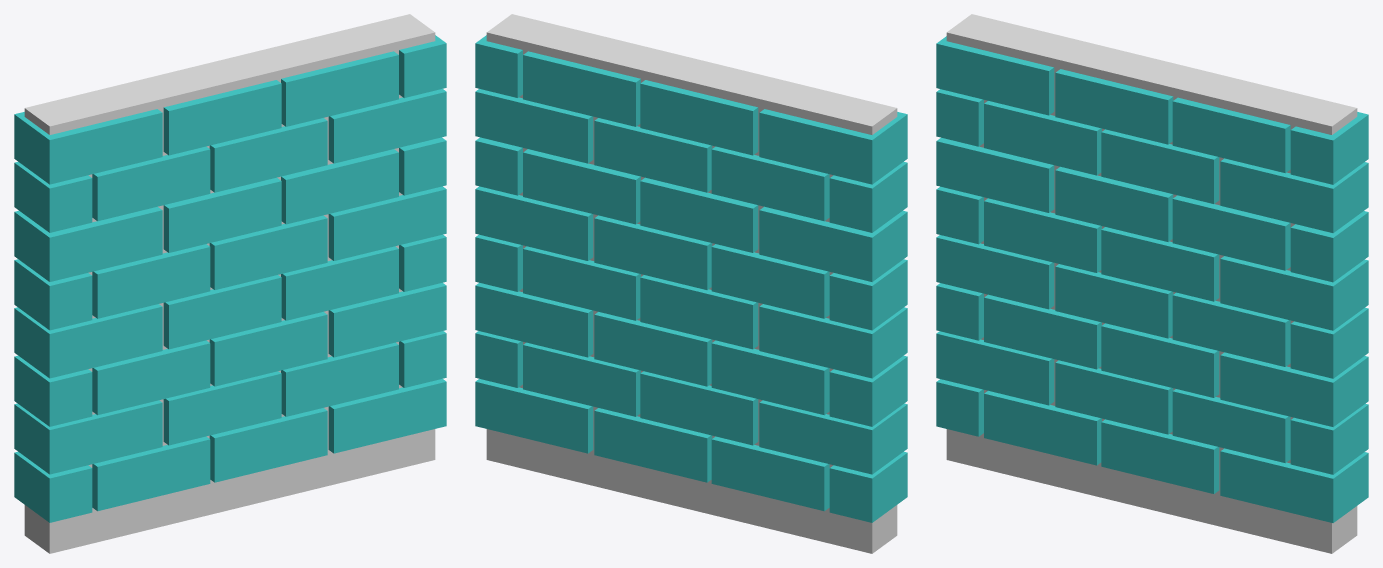
Rendered from duvar 2.2.2.fbx.
3 renders of one model, left to right at view 1: azimuth 30°, elevation 25°; view 2: azimuth 150°, elevation 25°; view 3: azimuth 330°, elevation 25°, orthographic.
Visible parts, largest first — view 1: tek_duvar3; view 2: tek_duvar3; view 3: tek_duvar3.
Part boxes in pixels (x1,y1,x2,y2): tek_duvar3: (14, 14, 446, 553); tek_duvar3: (475, 14, 907, 553); tek_duvar3: (936, 14, 1368, 553).
Bounding box in the file's own units: 1234 × 1269 × 191.
